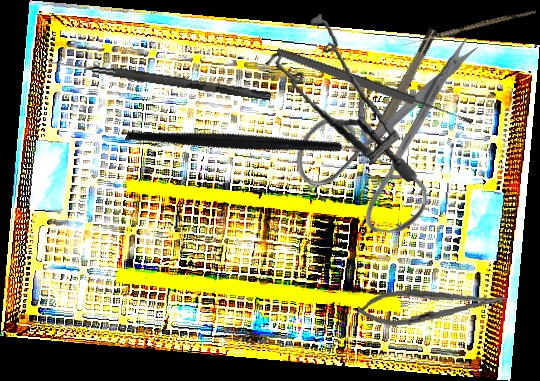Chopper: (124, 42, 386, 233)
Fixation Ring: (355, 26, 446, 166)
Hook Surgical: (47, 58, 272, 101)
Iris Scissors: (293, 33, 482, 235)
Needle Holder: (356, 282, 508, 330)
Speculum: (260, 4, 419, 198)
Surgical Spoon: (275, 45, 474, 129), (402, 7, 537, 49)
